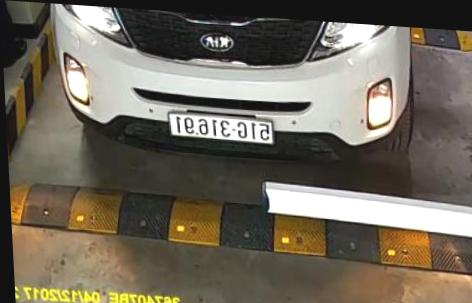License_Plate: (170, 112, 276, 144)
